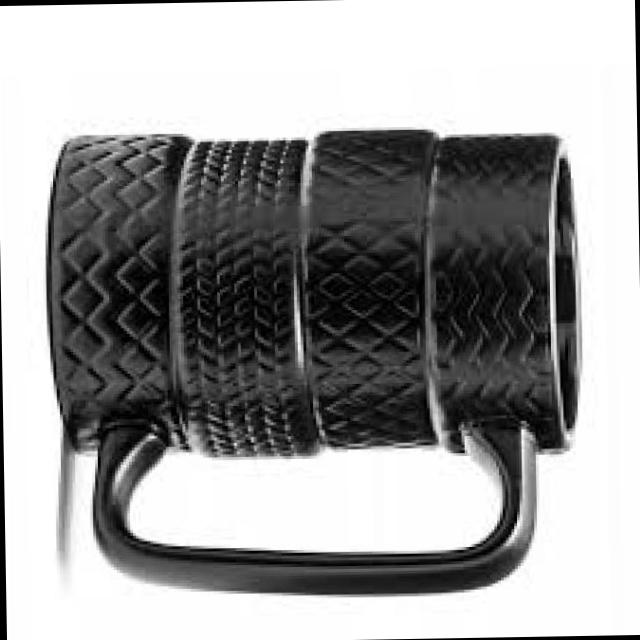Coffee Mug: (45, 128, 584, 598)
